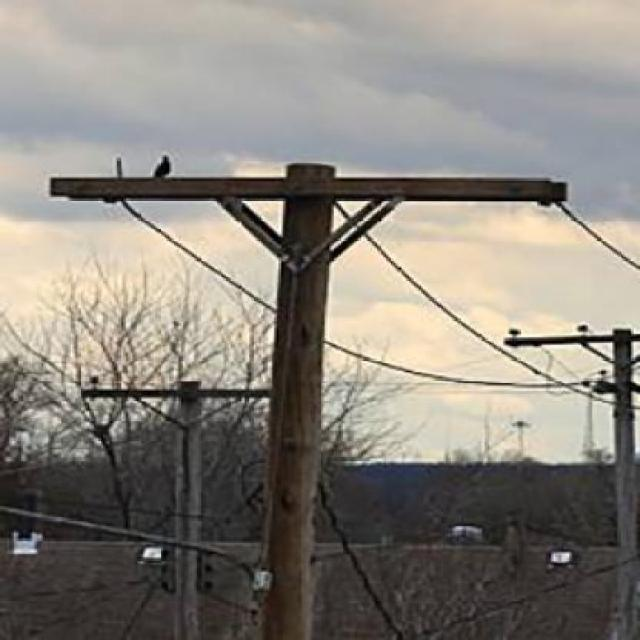pole: (36, 138, 586, 640)
